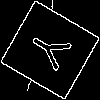Y: (25, 25, 81, 78)
